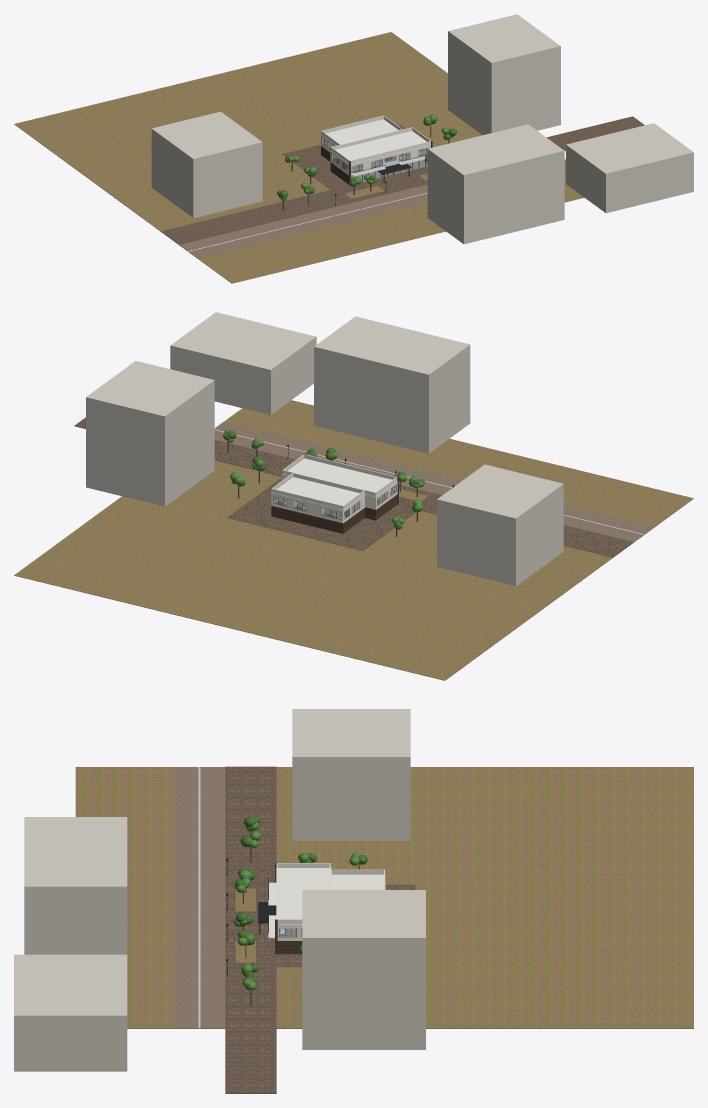
The model's file is walk.glb.
The picture shows the model from 3 angles, top to bottom: view 1: azimuth 30°, elevation 25°; view 2: azimuth 150°, elevation 25°; view 3: azimuth 270°, elevation 25°; orthographic projection. The views are drawn at different scales.
Parts seen in each view (by area): view 1: Site Neighbour facade, Site Grass, Site Paving, Site Asphalt, Structure Slab edge, Structure Facade cladding, Floor 1 Plaster, Site Leaves 2, Floor 1 Glass, Site Leaves; view 2: Site Grass, Site Neighbour facade, Site Paving, Site Asphalt, Structure Slab edge, Structure Facade cladding, Structure Facade stone, Floor 1 Plaster, Site Leaves, Site Leaves 2, Floor 1 Glass; view 3: Site Grass, Site Neighbour facade, Site Paving, Site Asphalt, Structure Slab edge, Site Leaves 2, Site Leaves, Structure Facade cladding, Site Porcelain.
Boxes of the visible parts, x1,y1,x2,y2 form: Site Neighbour facade: (151, 14, 693, 244); Site Grass: (14, 32, 584, 283); Site Paving: (161, 116, 644, 244); Site Asphalt: (179, 159, 565, 257); Structure Slab edge: (320, 119, 430, 175); Structure Facade cladding: (321, 115, 430, 163); Floor 1 Plaster: (321, 135, 430, 174); Site Leaves 2: (279, 114, 453, 200); Floor 1 Glass: (322, 138, 429, 172); Site Leaves: (277, 119, 456, 197); Site Grass: (14, 400, 693, 680); Site Neighbour facade: (86, 312, 563, 586); Site Paving: (74, 417, 633, 557); Site Asphalt: (214, 422, 654, 541); Structure Slab edge: (270, 458, 397, 523); Structure Facade cladding: (271, 454, 397, 509); Structure Facade stone: (271, 453, 398, 533); Floor 1 Plaster: (271, 475, 397, 521); Site Leaves: (225, 430, 424, 529); Site Leaves 2: (223, 429, 423, 524); Floor 1 Glass: (273, 485, 396, 519); Site Grass: (75, 767, 693, 1028); Site Neighbour facade: (14, 709, 425, 1071); Site Paving: (225, 766, 415, 1093); Site Asphalt: (173, 767, 225, 1028); Structure Slab edge: (276, 867, 385, 940); Site Leaves 2: (234, 822, 365, 990); Site Leaves: (235, 816, 367, 990); Structure Facade cladding: (276, 863, 384, 924); Site Porcelain: (198, 767, 200, 1028).
Bounding box in the file's own units: 150 × 24.14 × 132.
46 materials, 26 textured.
